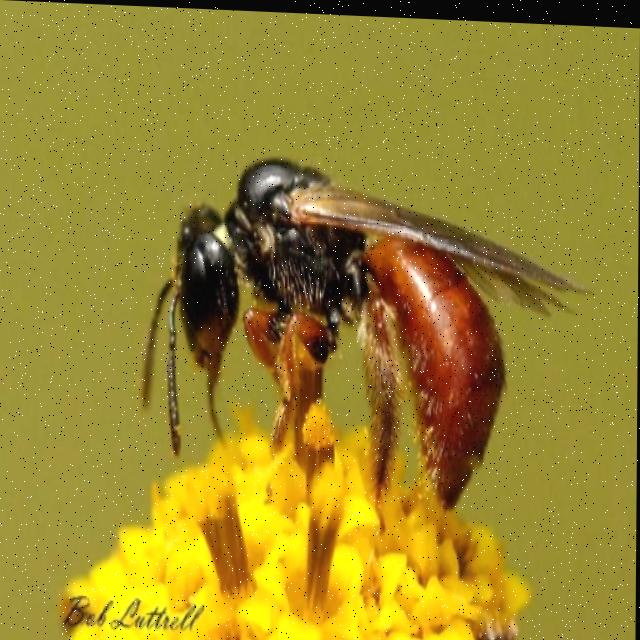Allodapula: (139, 139, 601, 528)
